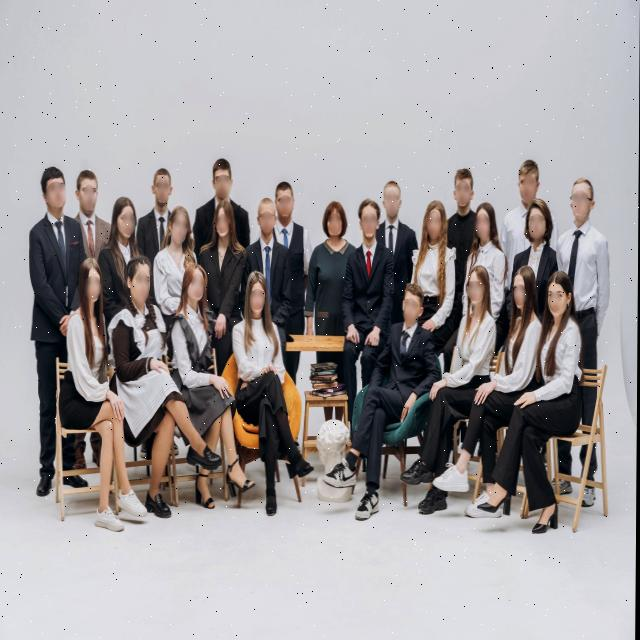Person: (316, 278, 442, 530), (476, 259, 590, 535), (105, 255, 222, 523), (392, 249, 501, 528), (434, 255, 544, 517), (59, 254, 150, 539), (233, 268, 311, 527), (22, 160, 75, 516), (554, 168, 613, 376), (250, 194, 299, 412), (202, 199, 249, 363), (351, 195, 390, 387), (154, 202, 204, 332), (312, 200, 360, 335), (409, 196, 459, 324), (270, 176, 309, 298), (201, 149, 249, 246), (502, 157, 554, 246), (74, 161, 113, 272), (463, 196, 510, 288), (443, 155, 479, 262), (514, 198, 560, 277), (377, 175, 409, 264), (114, 189, 145, 278), (145, 160, 172, 261)
